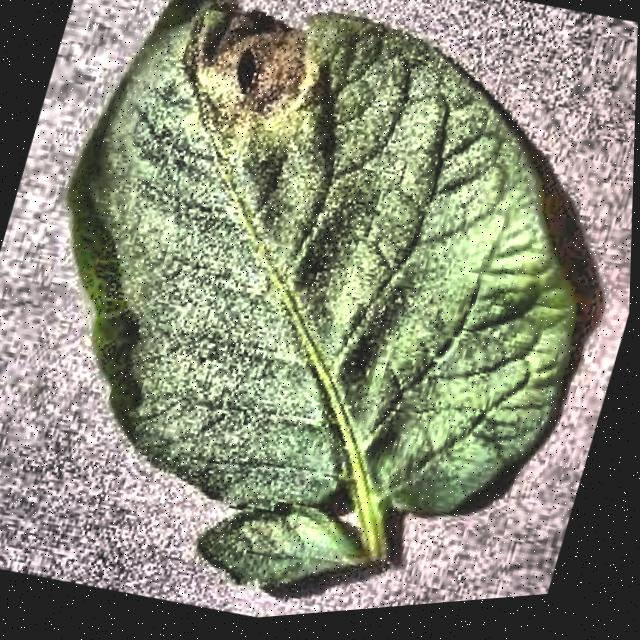Potato_leaf_late_blight: (54, 0, 585, 543)
